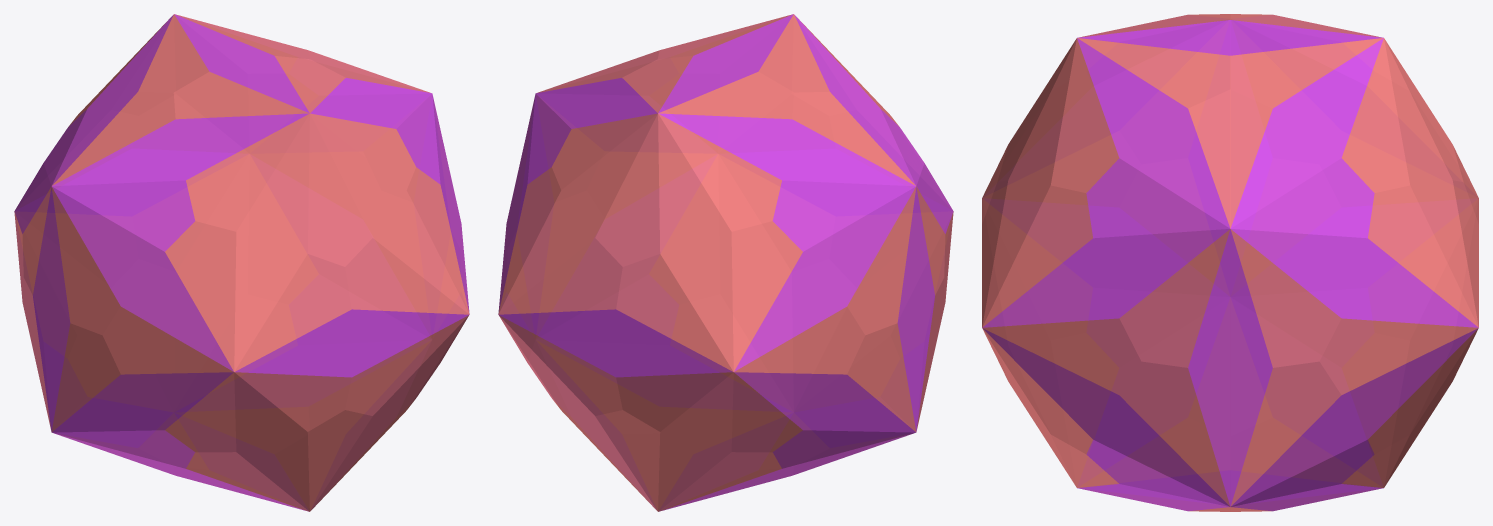
The model's file is JoinedTruncatedDodecahedron.obj.
3 renders of one model, left to right at view 1: azimuth 30°, elevation 25°; view 2: azimuth 150°, elevation 25°; view 3: azimuth 270°, elevation 25°, orthographic. The views are drawn at different scales.
Bounding box in the file's own units: 5.85 × 5.85 × 5.85.
